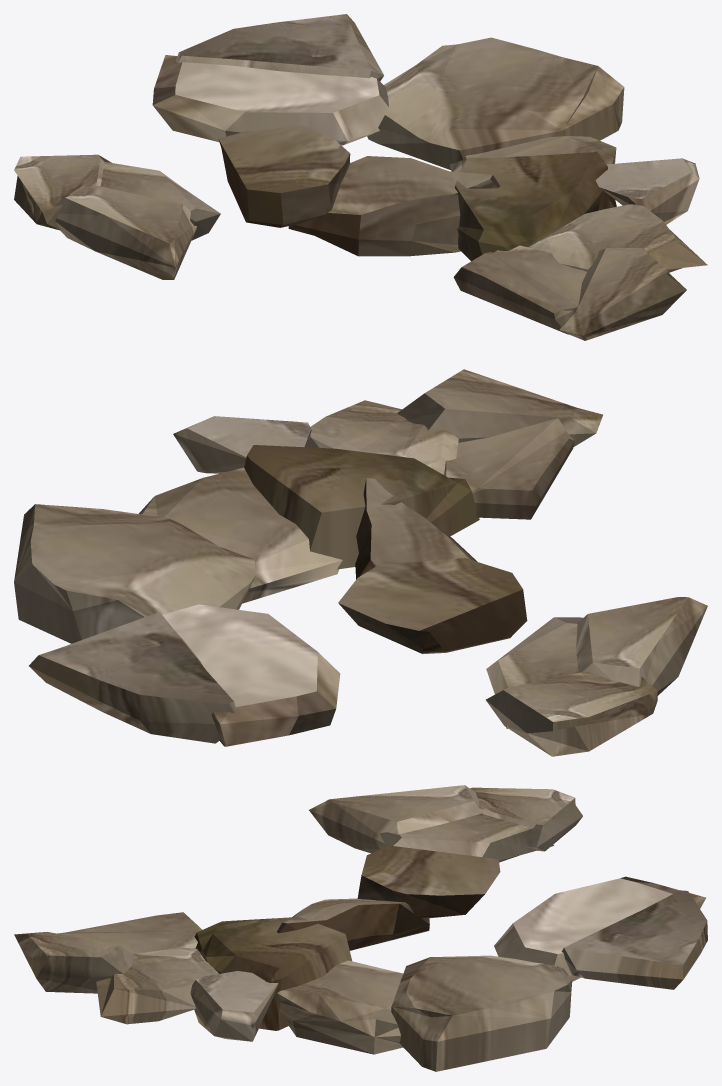
File: FX_Neru_Original_Ex01_Motion_Cam_Stone_01.fbx
3 views of the same model, one above another, from view 1: azimuth 30°, elevation 25°; view 2: azimuth 150°, elevation 25°; view 3: azimuth 270°, elevation 25° (orthographic). The views are drawn at different scales.
Parts seen in each view (by area): view 1: Cylinder001_frag_051, Cylinder001_frag_049, Cylinder001_frag_044, Cylinder001_frag_021, Cylinder001_frag_010, Cylinder001_frag_043, Cylinder001_frag_006, Cylinder001_frag_037, Cylinder001_frag_029, Cylinder001_frag_050, Cylinder001_frag_015, Cylinder001_frag_005 (+2 smaller); view 2: Cylinder001_frag_051, Cylinder001_frag_021, Cylinder001_frag_049, Cylinder001_frag_006, Cylinder001_frag_010, Cylinder001_frag_035, Cylinder001_frag_005, Cylinder001_frag_043, Cylinder001_frag_029, Cylinder001_frag_037, Cylinder001_frag_050, Cylinder001_frag_044 (+2 smaller); view 3: Cylinder001_frag_051, Cylinder001_frag_006, Cylinder001_frag_035, Cylinder001_frag_021, Cylinder001_frag_049, Cylinder001_frag_010, Cylinder001_frag_043, Cylinder001_frag_050, Cylinder001_frag_037, Cylinder001_frag_044, Cylinder001_frag_015, Cylinder001_frag_026 (+2 smaller).
Part boxes in pixels (x1,y1,x2,y2): Cylinder001_frag_051: (367, 37, 624, 169); Cylinder001_frag_049: (152, 55, 388, 145); Cylinder001_frag_044: (288, 156, 499, 256); Cylinder001_frag_021: (455, 152, 616, 261); Cylinder001_frag_010: (218, 125, 350, 227); Cylinder001_frag_043: (54, 185, 196, 279); Cylinder001_frag_006: (176, 14, 383, 81); Cylinder001_frag_037: (559, 248, 686, 340); Cylinder001_frag_029: (453, 245, 586, 334); Cylinder001_frag_050: (528, 204, 707, 272); Cylinder001_frag_015: (595, 158, 699, 224); Cylinder001_frag_005: (14, 154, 111, 230); Cylinder001_frag_051: (14, 504, 255, 643); Cylinder001_frag_021: (244, 445, 479, 569); Cylinder001_frag_049: (162, 604, 340, 746); Cylinder001_frag_006: (29, 612, 236, 743); Cylinder001_frag_010: (338, 558, 527, 653); Cylinder001_frag_035: (138, 467, 342, 603); Cylinder001_frag_005: (486, 671, 657, 756); Cylinder001_frag_043: (576, 597, 707, 695); Cylinder001_frag_029: (443, 418, 574, 519); Cylinder001_frag_037: (397, 369, 602, 446); Cylinder001_frag_050: (305, 400, 458, 474); Cylinder001_frag_044: (355, 478, 477, 579); Cylinder001_frag_051: (391, 955, 572, 1071); Cylinder001_frag_006: (561, 890, 707, 989); Cylinder001_frag_035: (277, 960, 402, 1054); Cylinder001_frag_021: (194, 917, 351, 1030); Cylinder001_frag_049: (494, 876, 705, 981); Cylinder001_frag_010: (357, 845, 500, 918); Cylinder001_frag_043: (309, 785, 481, 853); Cylinder001_frag_050: (96, 948, 218, 1024); Cylinder001_frag_037: (14, 932, 137, 993); Cylinder001_frag_044: (277, 898, 429, 950); Cylinder001_frag_015: (190, 971, 278, 1041); Cylinder001_frag_026: (379, 813, 553, 862).
Bounding box in the file's own units: 1.13 × 0.123 × 1.3.
